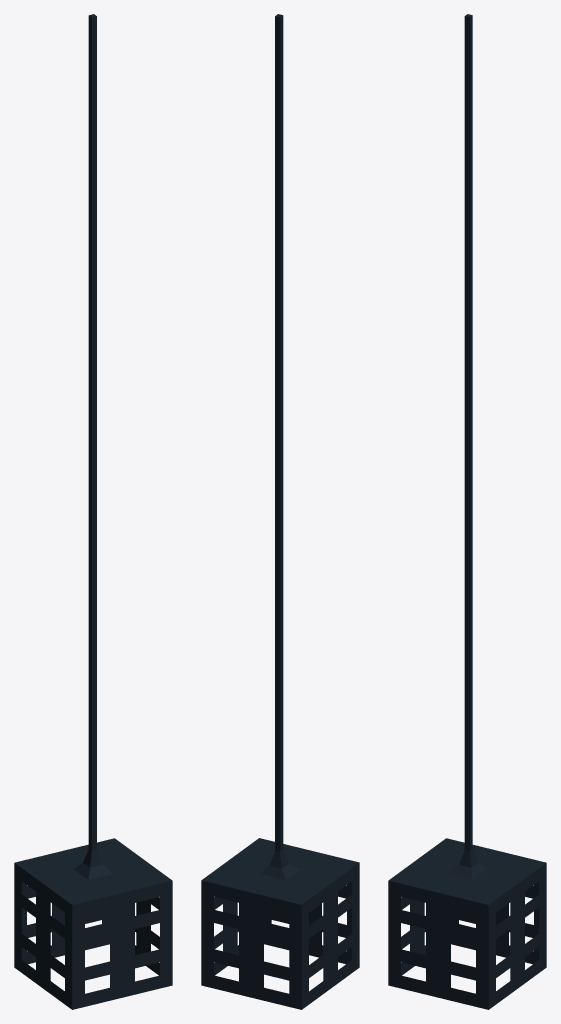
Rendered from cage.fbx.
3 renders of one model, left to right at view 1: azimuth 30°, elevation 25°; view 2: azimuth 150°, elevation 25°; view 3: azimuth 330°, elevation 25°, orthographic.
Parts seen in each view (by area): view 1: Cube; view 2: Cube; view 3: Cube.
Part boxes in pixels (x1,y1,x2,y2): Cube: (14,14,172,1009); Cube: (201,14,359,1009); Cube: (388,14,546,1009).
Size of the model in its own units: 200 by 1830 by 200.
